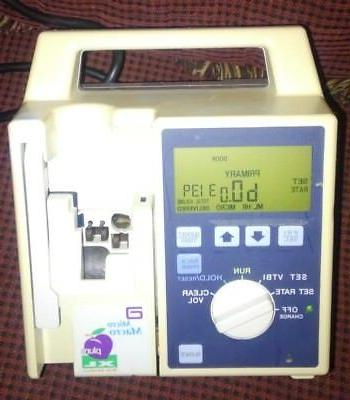plumxl1: (8, 26, 336, 383)
